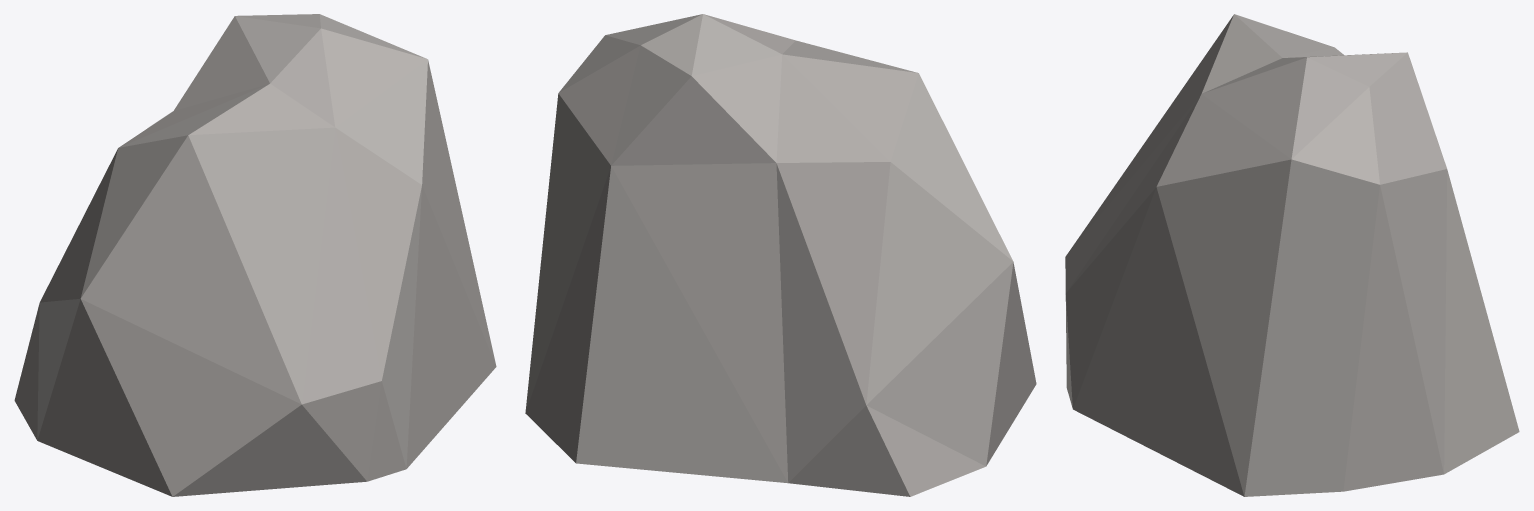
File: Rock01.fbx
The picture shows the model from 3 angles, left to right: view 1: azimuth 30°, elevation 25°; view 2: azimuth 150°, elevation 25°; view 3: azimuth 270°, elevation 25°; orthographic projection. The views are drawn at different scales.
Parts seen in each view (by area): view 1: Rock01; view 2: Rock01; view 3: Rock01.
Part boxes in pixels (left/top/right/bottom): Rock01: left=14, top=14, right=496, bottom=496; Rock01: left=525, top=14, right=1036, bottom=496; Rock01: left=1065, top=14, right=1519, bottom=496.
Bounding box in the file's own units: 1.5 × 1.2 × 1.35.
